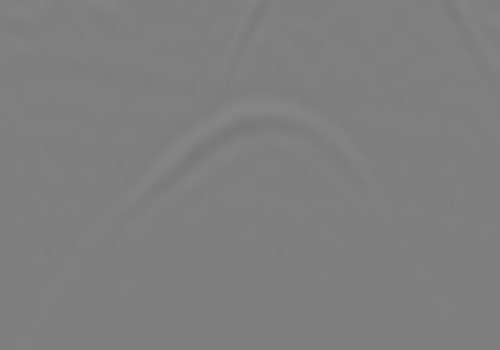hyperbola: (79, 93, 373, 270)
